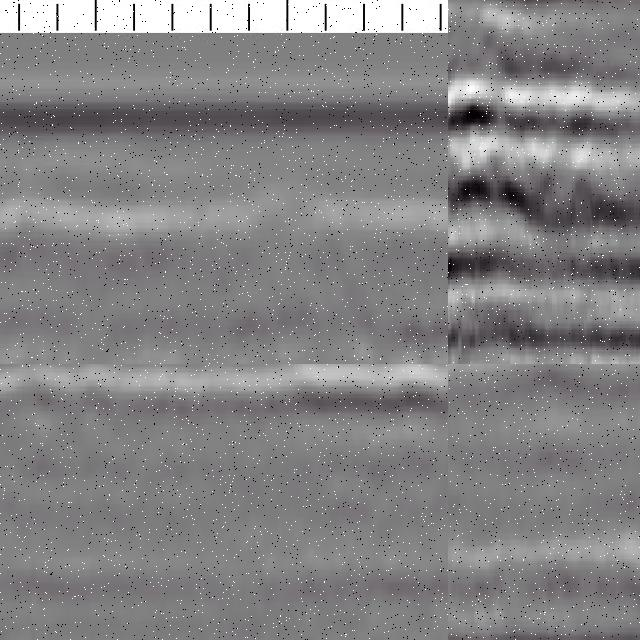loose: (449, 38, 581, 222)
